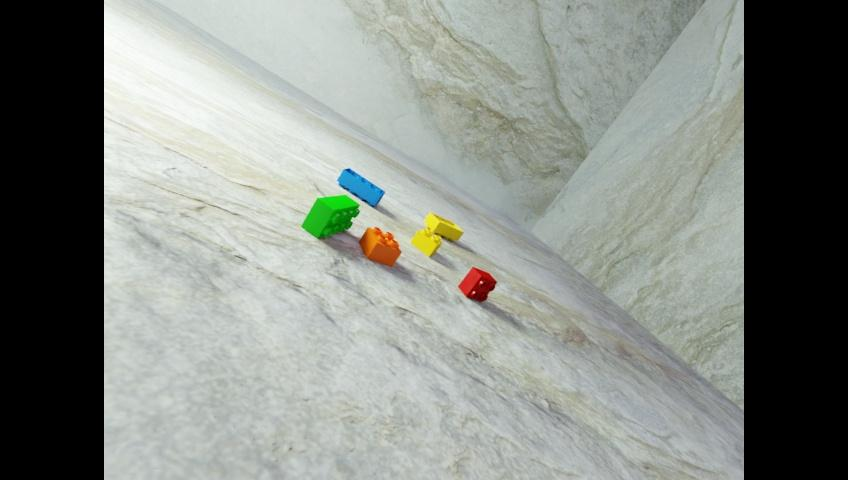2x2_orange: (358, 226, 401, 266)
2x2_red: (458, 266, 496, 301)
2x2_yellow: (410, 227, 441, 255)
4x2_blue: (336, 167, 384, 205)
4x2_green: (301, 194, 359, 237)
4x2_yellow: (424, 212, 463, 241)
